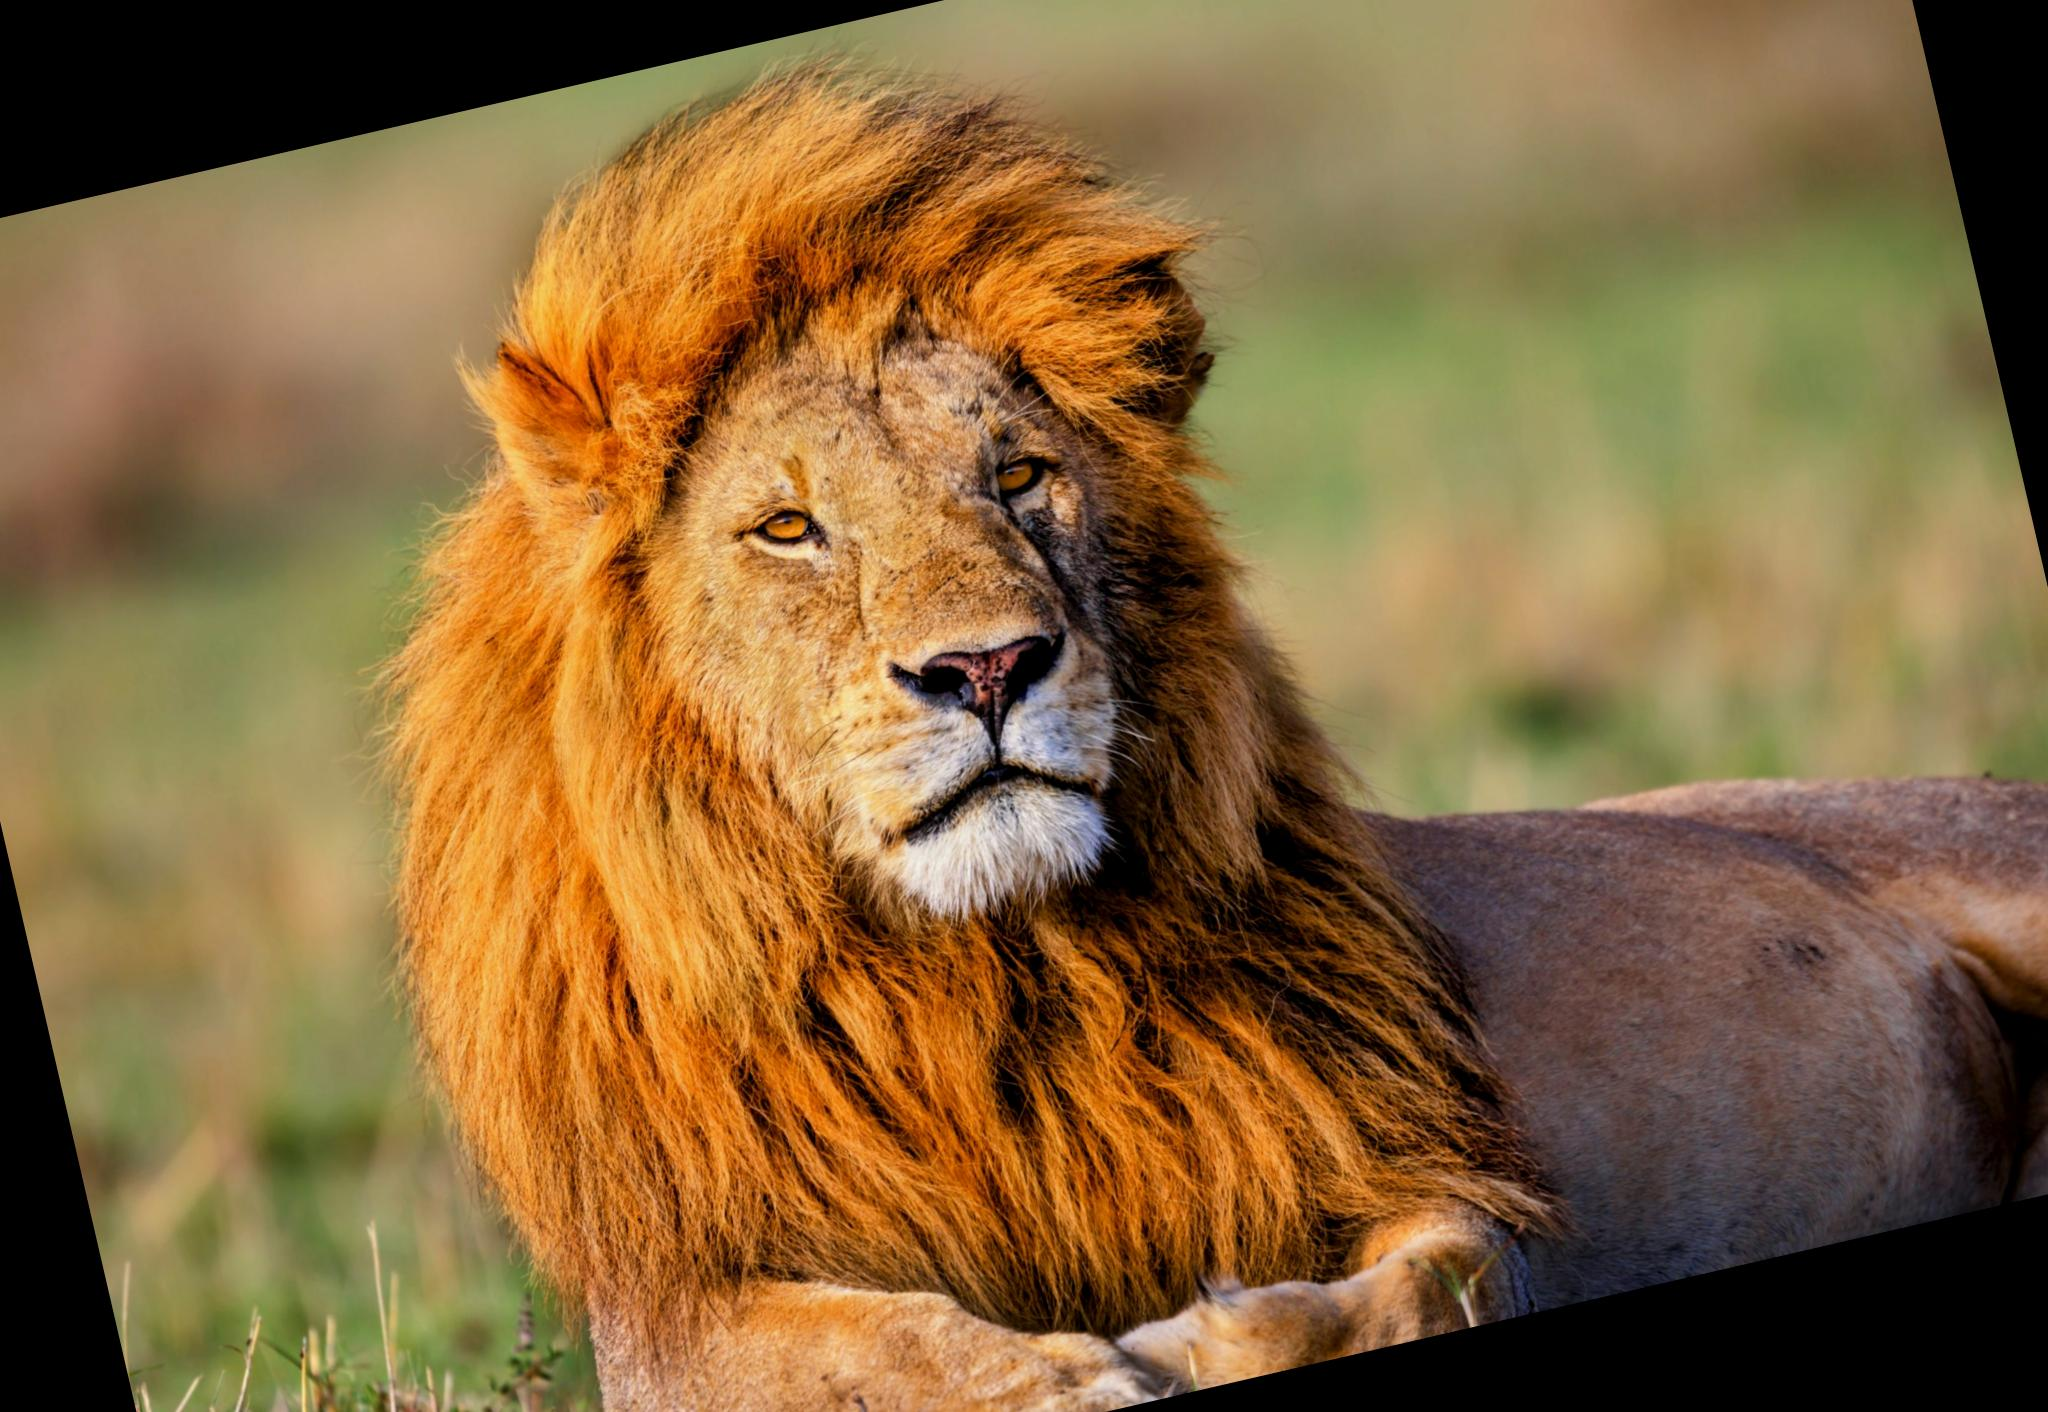lions: (121, 0, 2048, 1412)
